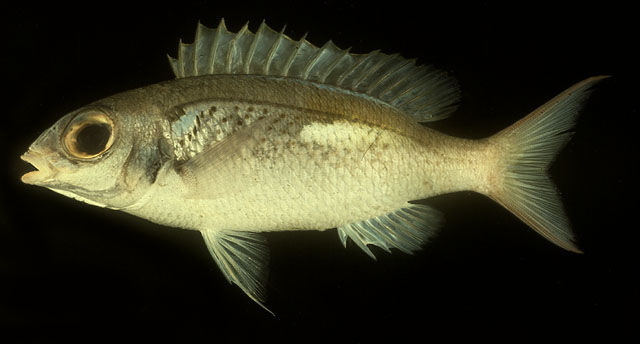fish: (19, 20, 611, 317)
